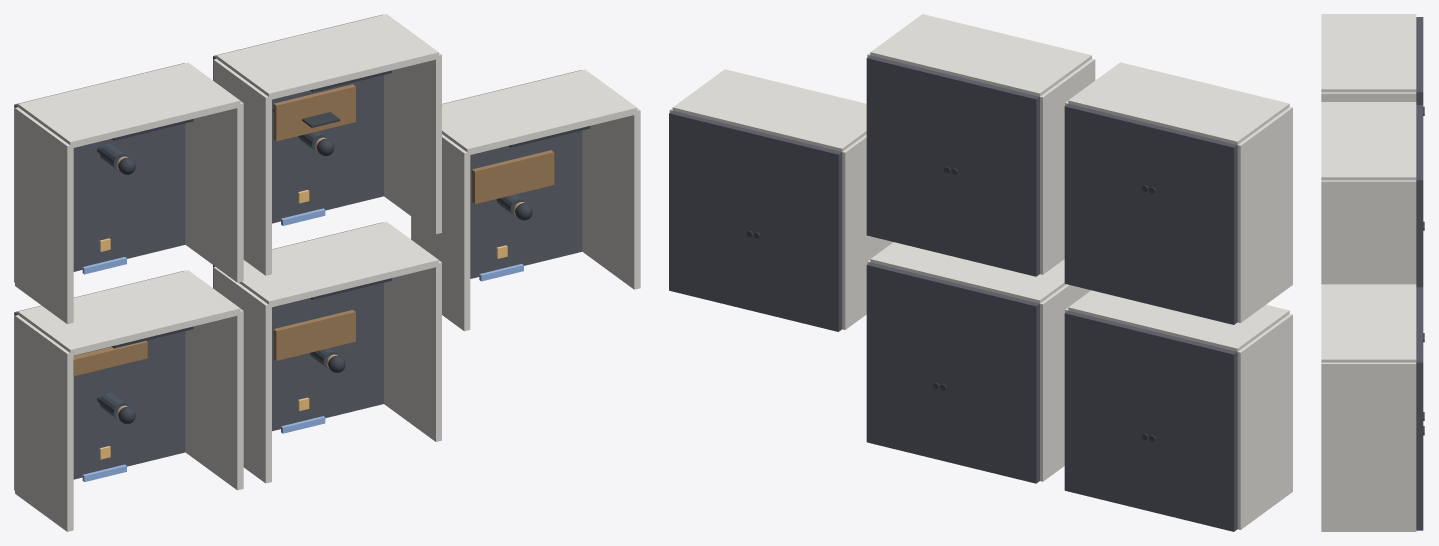
The model's file is mika_portfolio_5_rooms_v2.glb.
The picture shows the model from 3 angles, left to right: view 1: azimuth 30°, elevation 25°; view 2: azimuth 150°, elevation 25°; view 3: azimuth 270°, elevation 25°; orthographic projection. The views are drawn at different scales.
Parts seen in each view (by area): view 1: Profile_Floor, Skills_Floor, Skills_LeftWall, Profile_LeftWall, Experience_Floor, Contact_Floor, Profile_BackWall, Projects_Floor, Projects_BackWall, Skills_BackWall, Contact_BackWall, Experience_BackWall (+12 smaller); view 2: Profile_Floor, Skills_Floor, Projects_Floor, Experience_Floor, Contact_Floor, Profile_LeftWall, Skills_LeftWall, Profile_BackWall, Projects_BackWall, Contact_BackWall, Skills_BackWall, Projects_LeftWall (+3 smaller); view 3: Contact_RightWall, Projects_RightWall, Contact_BackWall, Profile_BackWall, Projects_BackWall, Contact_Floor, Projects_Floor, Profile_RightWall, Profile_Floor, Experience_RightWall.
Part boxes in pixels (box(x1,y1,x2,y2)): Profile_Floor: box(14, 63, 185, 282); Skills_Floor: box(14, 270, 185, 490); Skills_LeftWall: box(15, 315, 73, 531); Profile_LeftWall: box(15, 107, 73, 324); Experience_Floor: box(213, 222, 383, 431); Contact_Floor: box(411, 70, 582, 278); Profile_BackWall: box(18, 62, 240, 148); Projects_Floor: box(213, 14, 383, 223); Projects_BackWall: box(216, 14, 438, 99); Skills_BackWall: box(18, 270, 240, 355); Contact_BackWall: box(442, 69, 637, 155); Experience_BackWall: box(239, 221, 438, 307); Profile_Floor: box(1064, 103, 1237, 324); Skills_Floor: box(1064, 310, 1237, 531); Projects_Floor: box(866, 55, 1039, 276); Experience_Floor: box(866, 262, 1039, 483); Contact_Floor: box(669, 111, 842, 331); Profile_LeftWall: box(1237, 107, 1292, 322); Skills_LeftWall: box(1237, 314, 1292, 529); Profile_BackWall: box(1068, 62, 1289, 144); Projects_BackWall: box(870, 14, 1091, 96); Contact_BackWall: box(672, 69, 866, 151); Skills_BackWall: box(1068, 290, 1289, 351); Projects_LeftWall: box(1040, 58, 1095, 274); Contact_RightWall: box(1321, 362, 1416, 525); Projects_RightWall: box(1321, 180, 1416, 284); Contact_BackWall: box(1321, 284, 1416, 362); Profile_BackWall: box(1321, 14, 1416, 92); Projects_BackWall: box(1321, 102, 1416, 180); Contact_Floor: box(1416, 287, 1423, 524); Projects_Floor: box(1416, 105, 1423, 287); Profile_RightWall: box(1321, 92, 1416, 101); Profile_Floor: box(1416, 17, 1423, 104); Experience_RightWall: box(1321, 525, 1416, 531).
Bounding box in the file's own units: 20.22 × 13.21 × 3.47.
